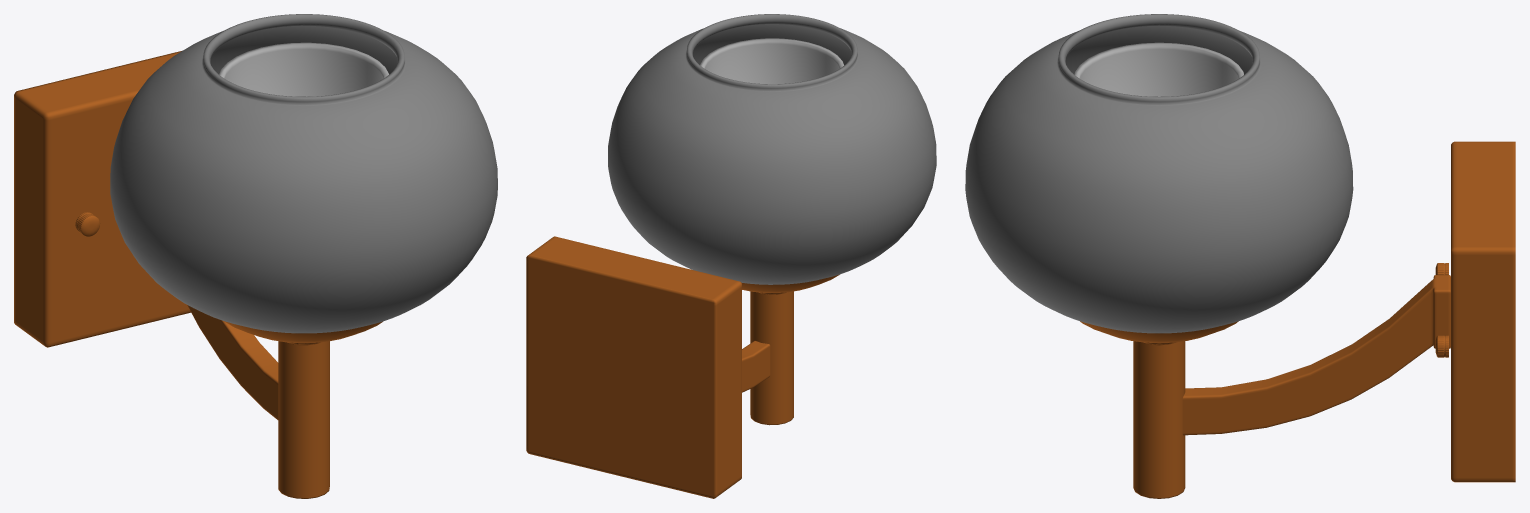
File: 730613_Fiamma_Lightstar_PBR.fbx
3 views of the same model, side by side, from view 1: azimuth 30°, elevation 25°; view 2: azimuth 150°, elevation 25°; view 3: azimuth 270°, elevation 25° (orthographic). The views are drawn at different scales.
Parts seen in each view (by area): view 1: 730613_Fiamma_Lightstar; view 2: 730613_Fiamma_Lightstar; view 3: 730613_Fiamma_Lightstar.
Part boxes in pixels (<box>): 730613_Fiamma_Lightstar: <box>14,14,497,498</box>; 730613_Fiamma_Lightstar: <box>526,14,936,498</box>; 730613_Fiamma_Lightstar: <box>965,14,1515,498</box>.
Size of the model in its own units: 180 by 222 by 256.
